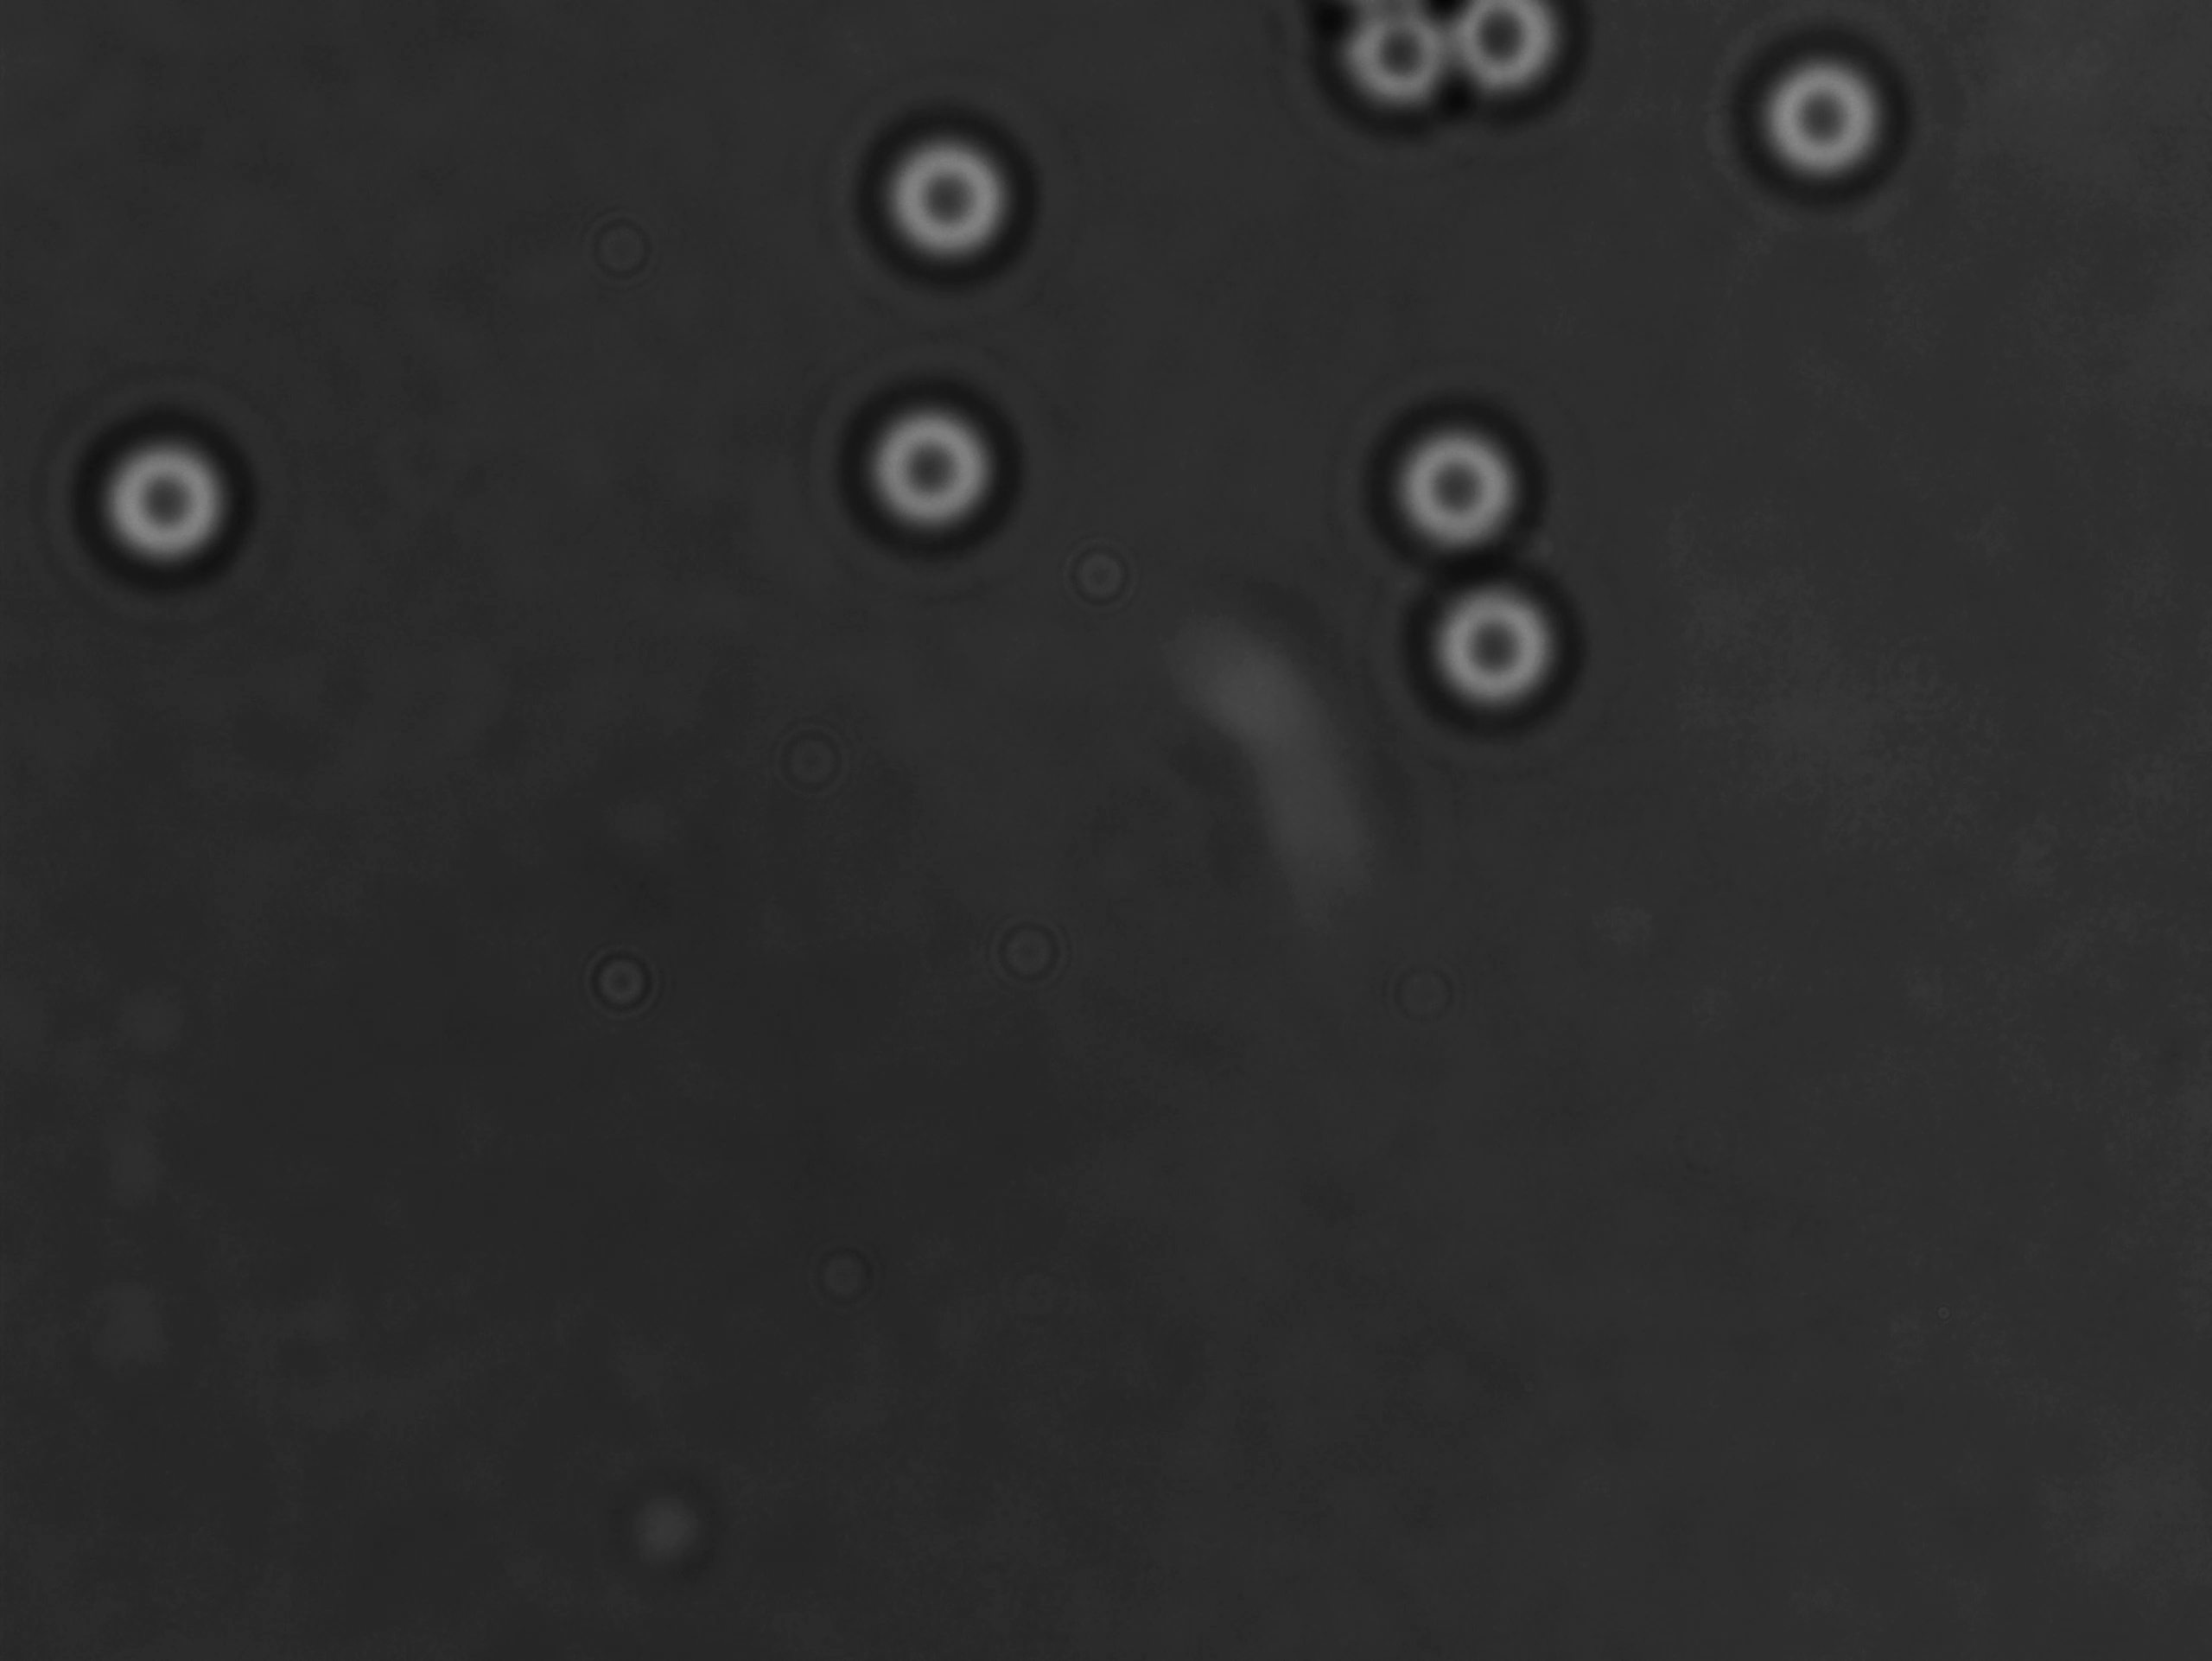depth:80: (63, 387, 276, 605), (836, 96, 1057, 297), (841, 365, 1031, 562), (1727, 42, 1921, 234), (1415, 558, 1594, 740), (1364, 405, 1551, 578)
